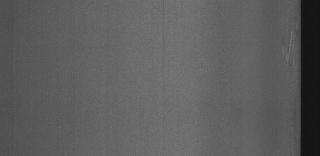silk spot: (278, 14, 300, 102)
